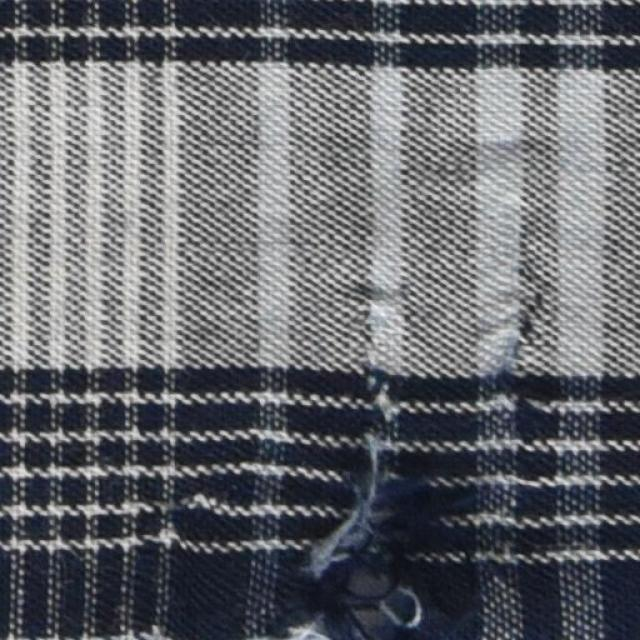Hole: (341, 565, 400, 627)
Snag: (298, 384, 420, 640), (480, 323, 543, 439)
